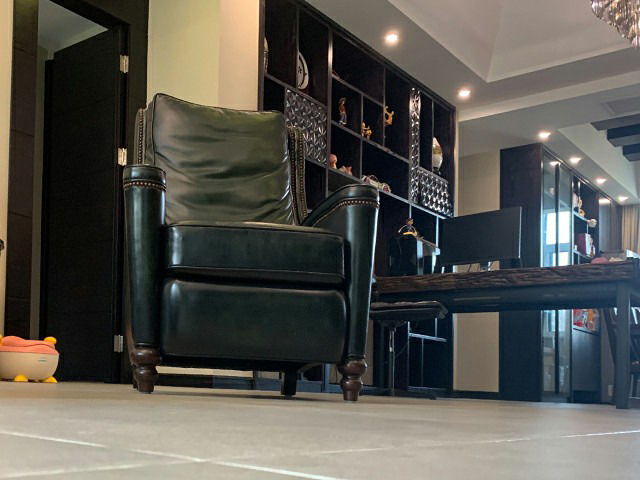cabinet: (255, 7, 456, 403), (499, 140, 621, 404)
sofa: (121, 91, 381, 399)
stool: (369, 298, 449, 400)
table: (374, 260, 640, 410)
